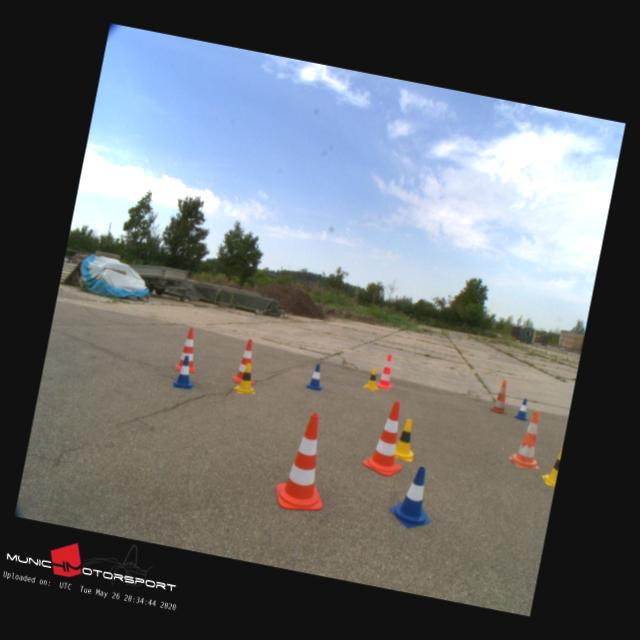blue_cone: (386, 462, 440, 530), (172, 354, 197, 389), (306, 362, 326, 390), (514, 396, 530, 421)
large_orange_cone: (274, 410, 338, 514), (361, 397, 413, 477), (507, 408, 549, 470), (233, 338, 263, 384), (174, 327, 203, 372), (489, 378, 512, 415), (376, 353, 398, 389)
yellow_cone: (391, 418, 420, 462), (540, 444, 562, 488), (233, 361, 260, 395), (362, 366, 382, 391)
